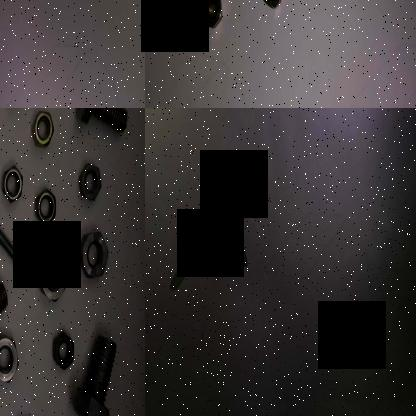Bolts: (73, 327, 119, 416), (75, 108, 130, 145), (0, 207, 23, 279), (208, 200, 239, 252)
NUTS: (33, 246, 71, 310), (76, 222, 110, 288), (71, 157, 105, 213), (33, 180, 59, 233), (50, 325, 78, 373), (30, 110, 58, 152), (2, 162, 26, 206), (0, 333, 19, 385), (199, 0, 224, 31), (264, 0, 287, 14)
